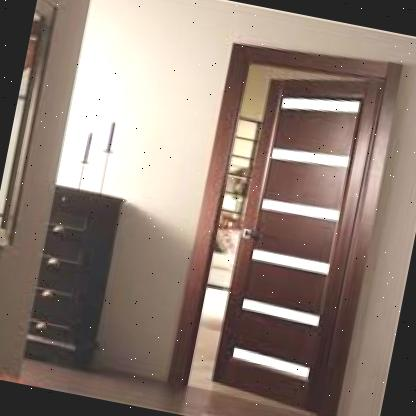door: (157, 30, 410, 416)
